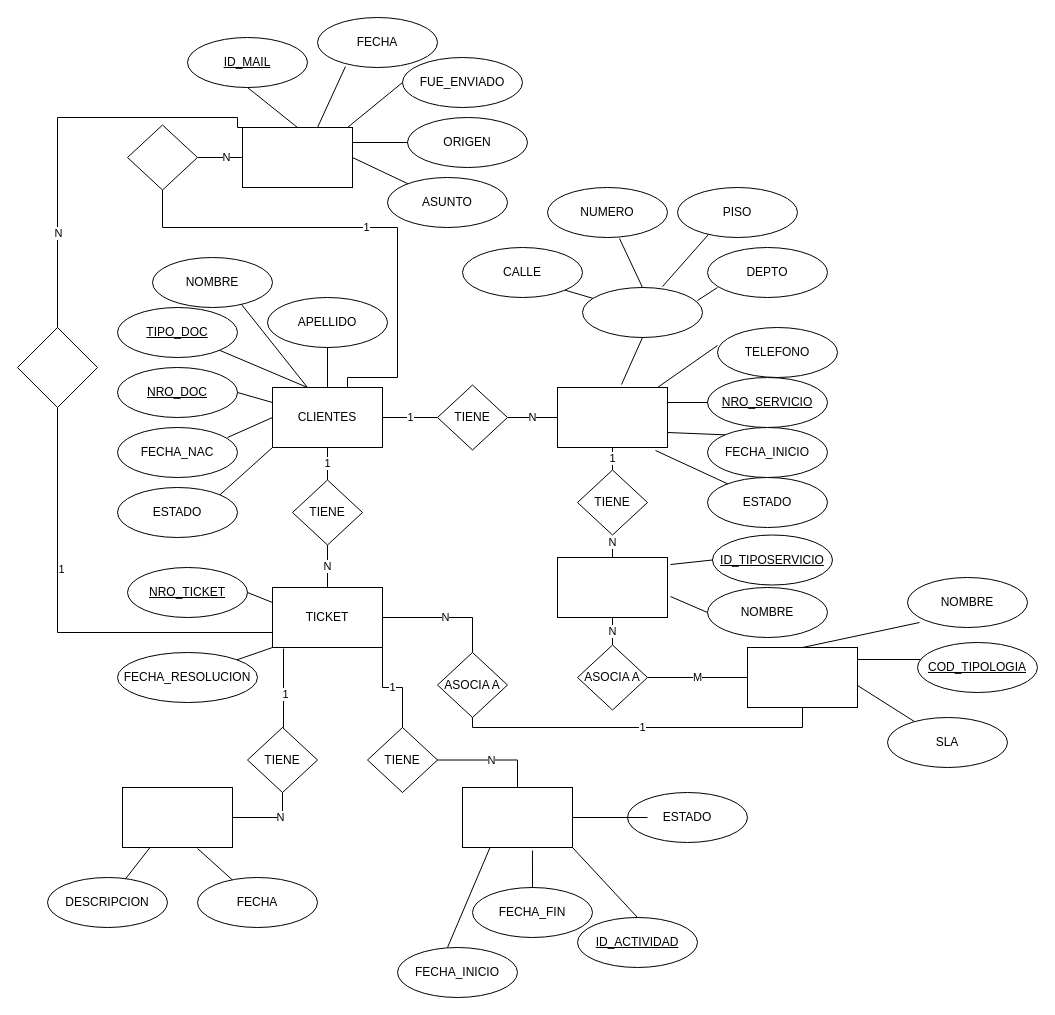
Some shapes in this 1055 by 1015 pixel diagram are drawn without their labels. Each missing label, with the box of its shape:
ACTIVIDADES: (122, 786, 232, 848)
DIRECCION: (582, 286, 702, 338)
ENVIA: (16, 326, 98, 408)
HISTORIAL: (462, 786, 572, 848)
MAIL: (242, 126, 352, 188)
RECIBEN: (126, 124, 198, 190)
SERVICIOS: (556, 386, 668, 448)
TIPO_SERVICIO: (556, 556, 668, 618)
TIPOLOGIA: (746, 646, 858, 708)
